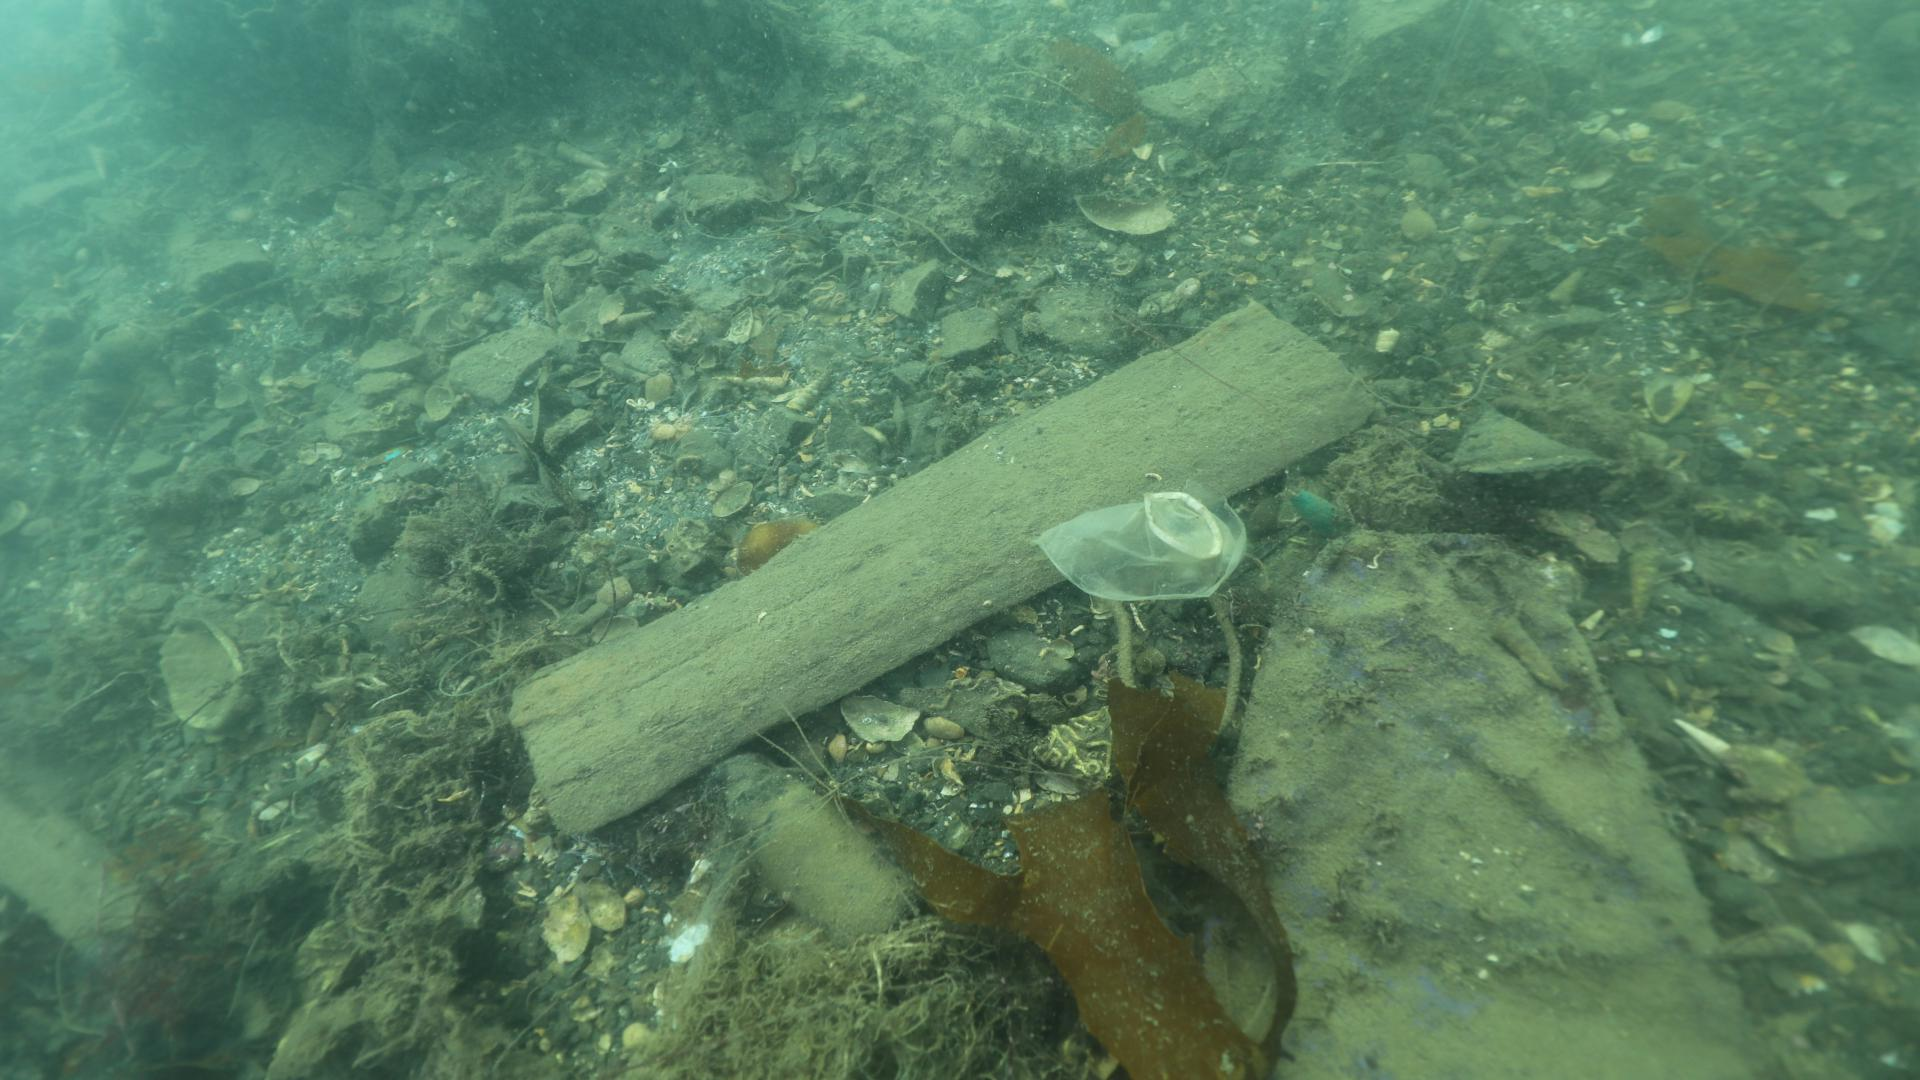wood: (505, 295, 1381, 840)
